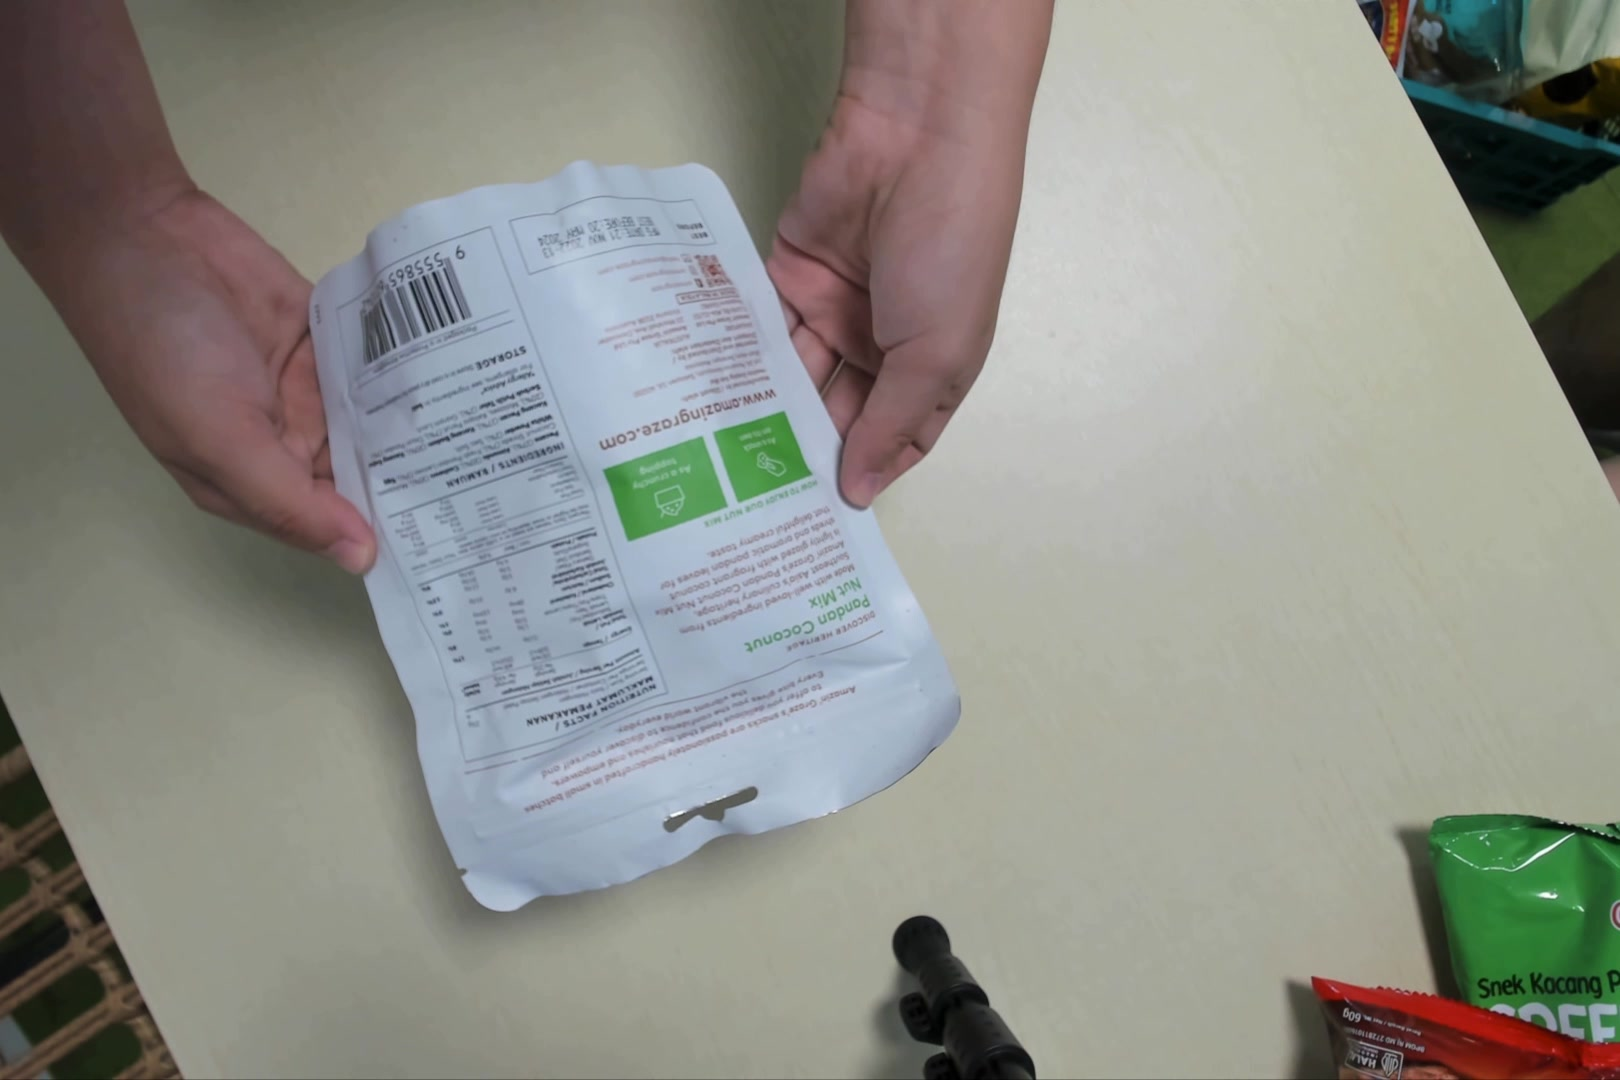Nuts_100-199g_Halal_NonHealthy: (300, 171, 955, 921)
